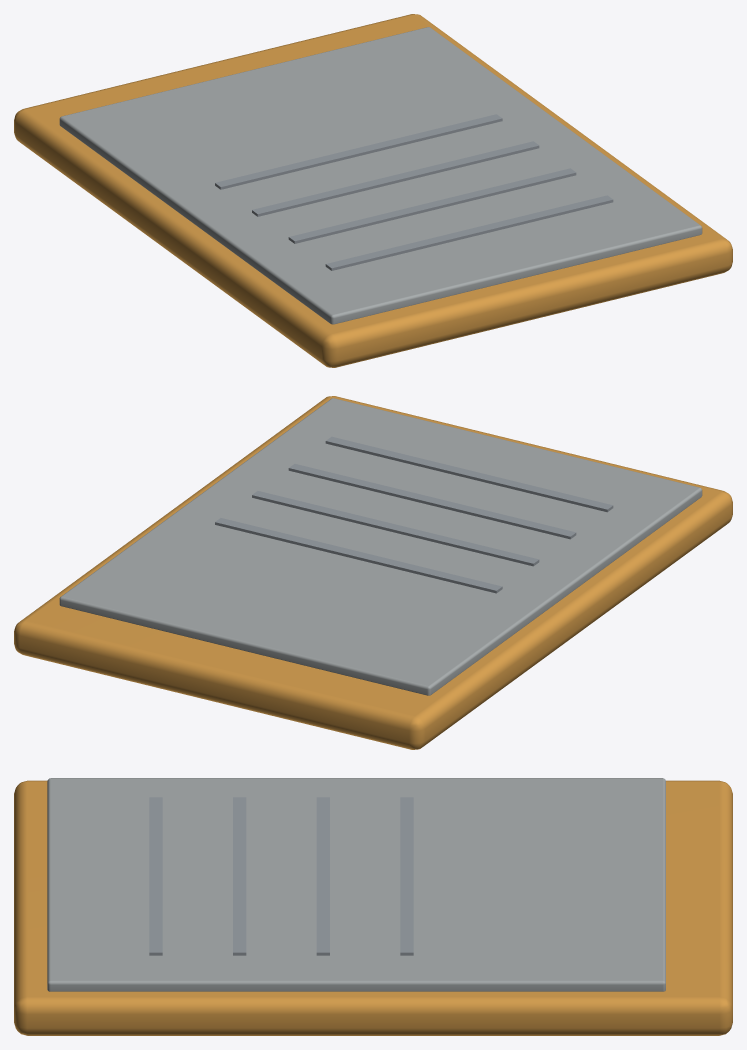
The model's file is ZH_ENV_Existing_Clipboard.fbx.
The picture shows the model from 3 angles, top to bottom: view 1: azimuth 30°, elevation 25°; view 2: azimuth 150°, elevation 25°; view 3: azimuth 270°, elevation 25°; orthographic projection. The views are drawn at different scales.
Visible parts, largest first — view 1: Shift log | paper.001, Shift log | clipboard.001, Shift log | line.004, Shift log | line.005, Shift log | line.007, Shift log | line.006; view 2: Shift log | paper.001, Shift log | clipboard.001, Shift log | line.004, Shift log | line.005, Shift log | line.007, Shift log | line.006; view 3: Shift log | paper.001, Shift log | clipboard.001, Shift log | line.004, Shift log | line.005, Shift log | line.006, Shift log | line.007.
Boxes of the visible parts, x1,y1,x2,y2 form: Shift log | paper.001: [59, 27, 702, 324]; Shift log | clipboard.001: [14, 14, 732, 367]; Shift log | line.004: [325, 195, 613, 270]; Shift log | line.005: [288, 168, 576, 243]; Shift log | line.007: [215, 114, 502, 189]; Shift log | line.006: [252, 141, 539, 216]; Shift log | paper.001: [59, 398, 702, 695]; Shift log | clipboard.001: [14, 396, 732, 749]; Shift log | line.004: [325, 436, 613, 512]; Shift log | line.005: [288, 464, 576, 539]; Shift log | line.007: [215, 518, 502, 593]; Shift log | line.006: [252, 491, 539, 566]; Shift log | paper.001: [47, 778, 665, 991]; Shift log | clipboard.001: [14, 780, 732, 1035]; Shift log | line.004: [149, 797, 162, 955]; Shift log | line.005: [233, 797, 246, 955]; Shift log | line.006: [316, 797, 329, 955]; Shift log | line.007: [400, 797, 413, 955].
Size of the model in its own units: 0.32 by 0.0345 by 0.43.
